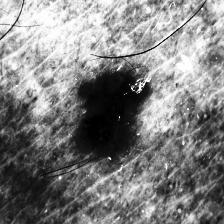Benign Marking or Mole: (81, 76, 149, 152)
